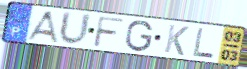A: (24, 10, 60, 45)
F: (92, 15, 126, 49)
G: (124, 20, 155, 53)
K: (162, 23, 191, 58)
L: (192, 27, 216, 60)
U: (57, 10, 93, 47)
